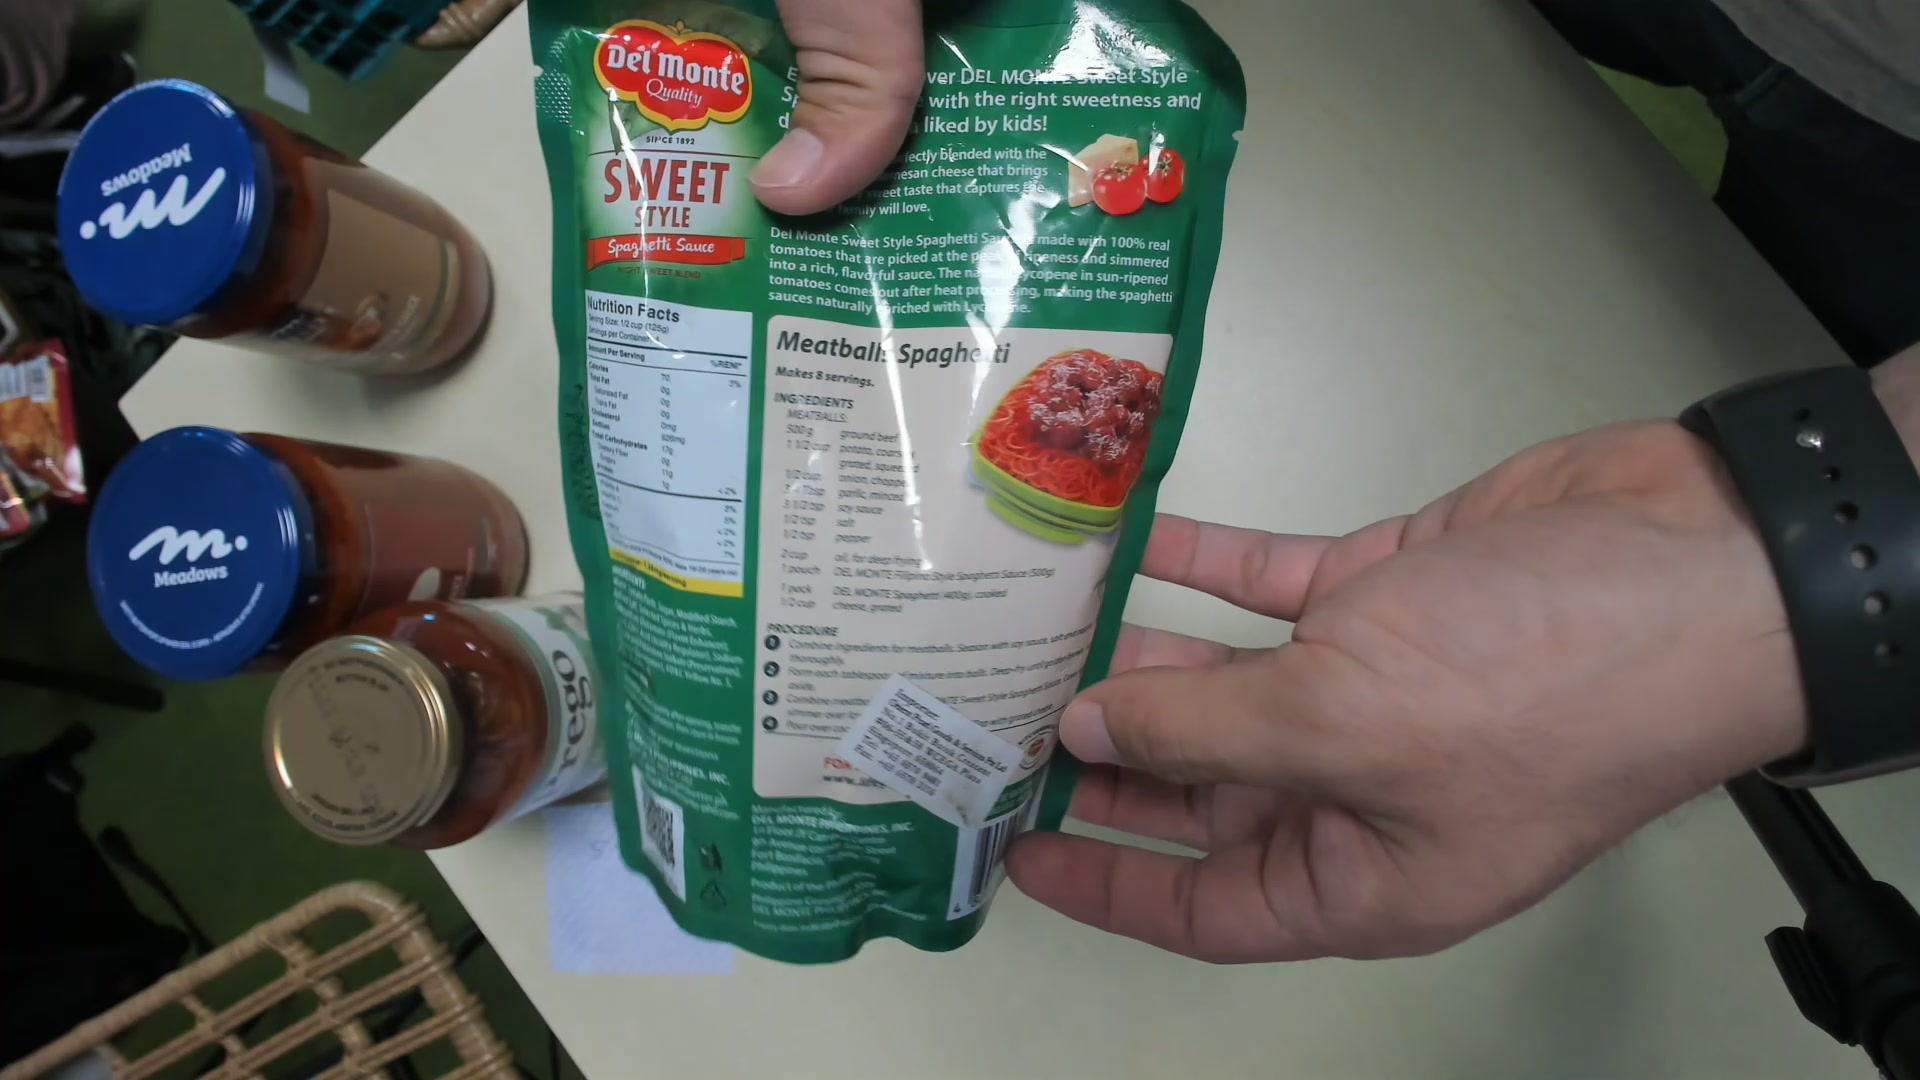PastaSauce_500-599g_Halal_NonHealthy: (541, 5, 1209, 951)
